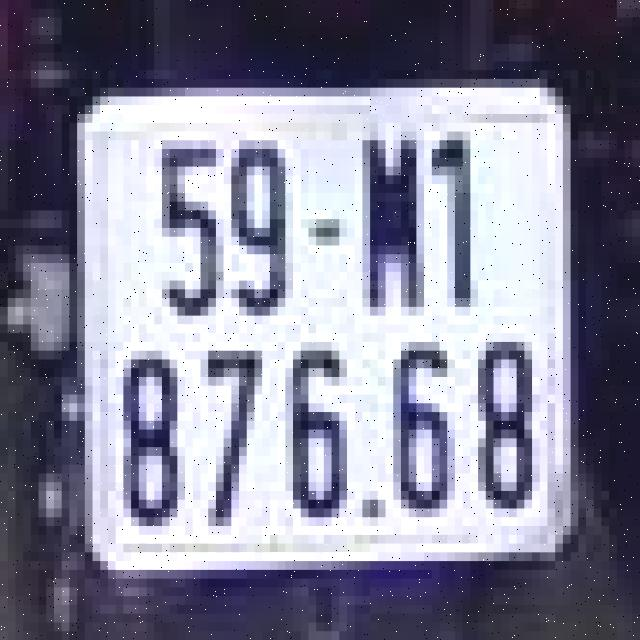1: (424, 118, 486, 312)
5: (146, 127, 224, 320)
6: (386, 328, 478, 522), (281, 333, 351, 517)
7: (197, 338, 266, 539)
8: (470, 328, 548, 522), (112, 347, 189, 530)
9: (227, 132, 297, 324)
M: (351, 118, 428, 320)
